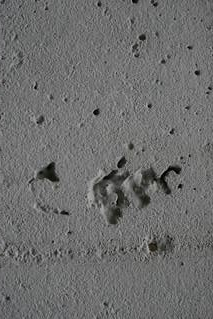Spalling: (1, 1, 213, 226)
